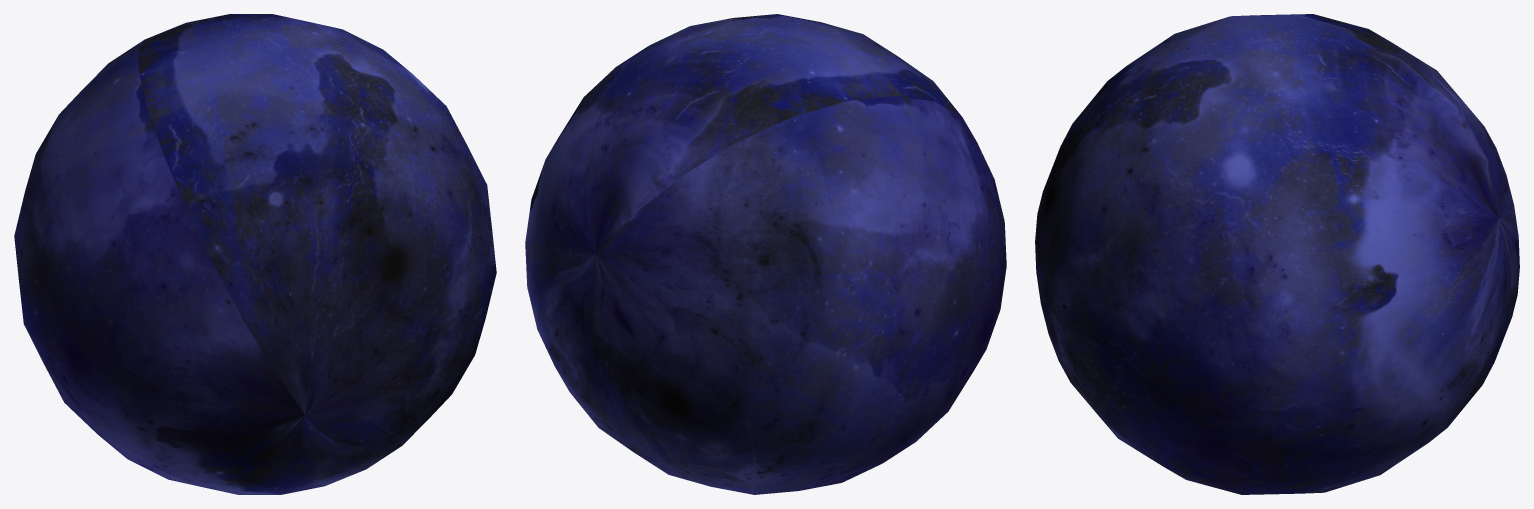
File: neptun.fbx
The picture shows the model from 3 angles, left to right: view 1: azimuth 30°, elevation 25°; view 2: azimuth 150°, elevation 25°; view 3: azimuth 270°, elevation 25°; orthographic projection.
Visible parts, largest first — view 1: Sphere; view 2: Sphere; view 3: Sphere.
Part boxes in pixels (x1,y1,x2,y2): Sphere: (14, 14, 496, 494); Sphere: (525, 14, 1006, 494); Sphere: (1035, 14, 1519, 494).
Bounding box in the file's own units: 125 × 125 × 125.
Materials: 1 (1 with a texture image).
